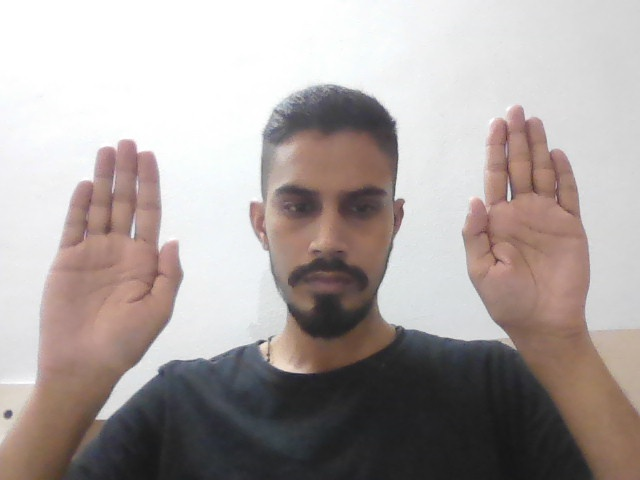Stop: (30, 135, 187, 363)
